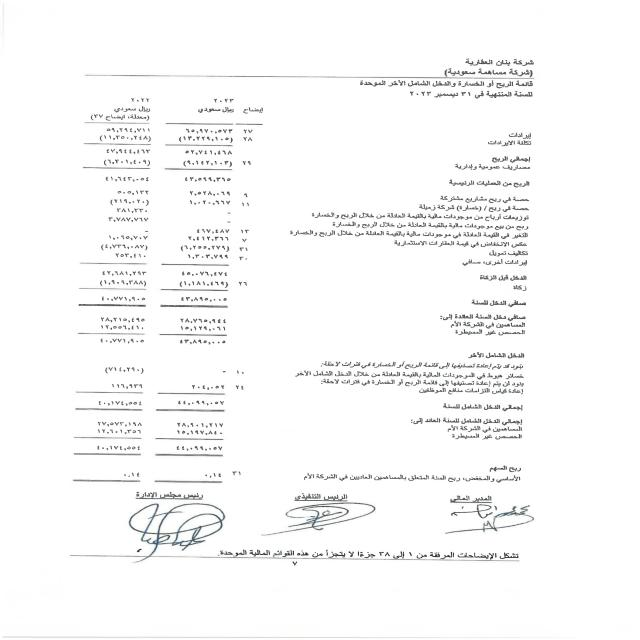financial_sheets: (353, 80, 536, 91)
table: (58, 89, 285, 489)
